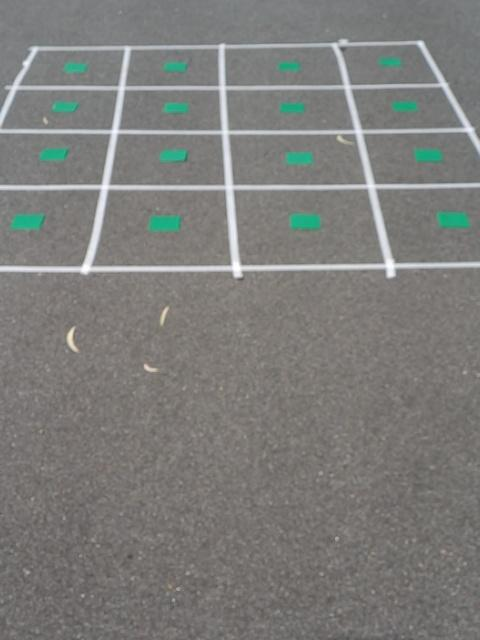weed: (144, 207, 184, 239), (433, 204, 471, 236), (287, 207, 326, 237), (8, 208, 53, 231), (411, 141, 443, 168), (157, 142, 190, 168), (281, 148, 316, 170), (159, 96, 190, 118), (37, 144, 71, 164), (389, 97, 420, 116), (276, 98, 304, 119), (63, 57, 90, 77), (47, 99, 80, 114), (160, 57, 189, 74), (273, 59, 300, 77), (377, 52, 401, 71)
